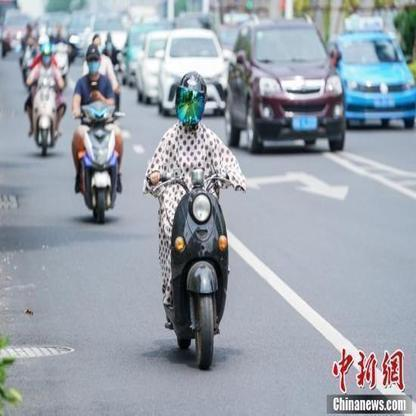target: (147, 71, 248, 372)
